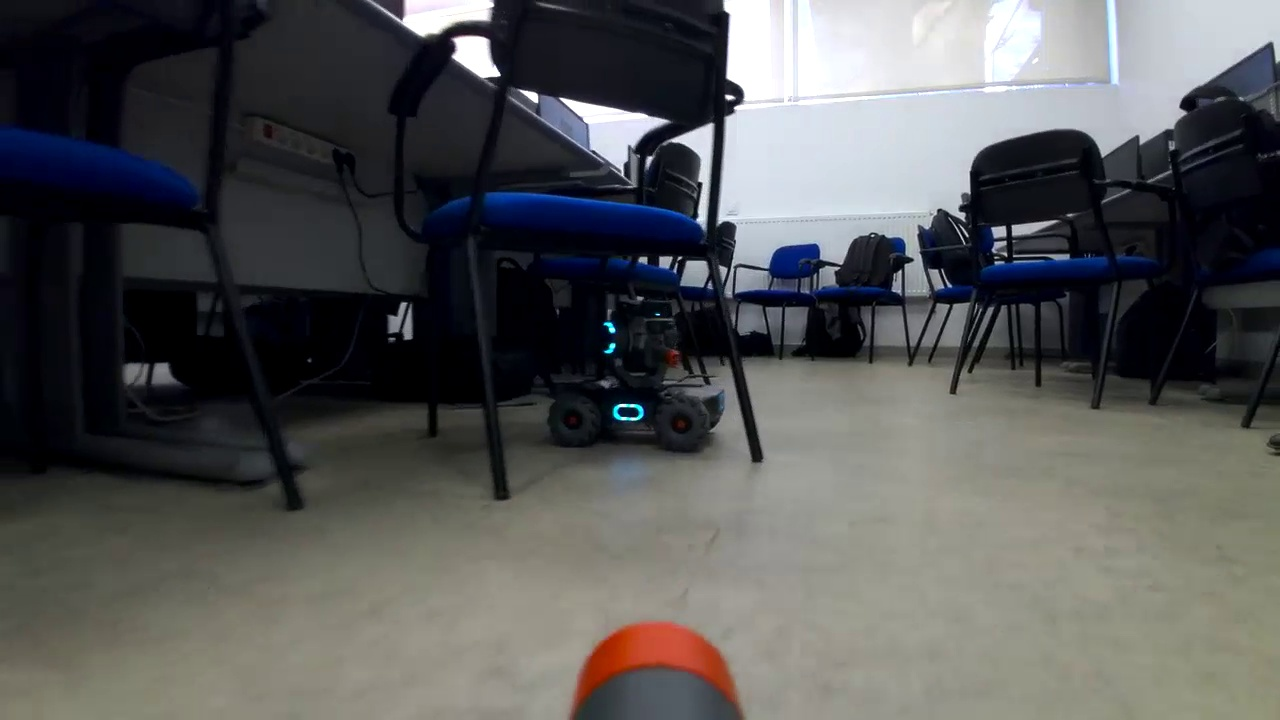robot: (541, 299, 730, 466)
